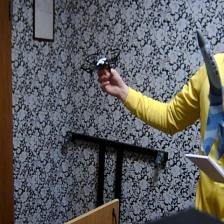drone: (78, 44, 125, 78)
